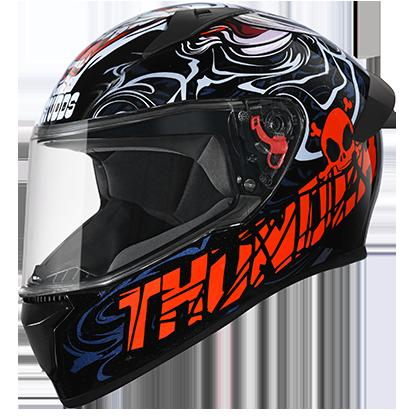Helmet: (20, 1, 394, 409)
